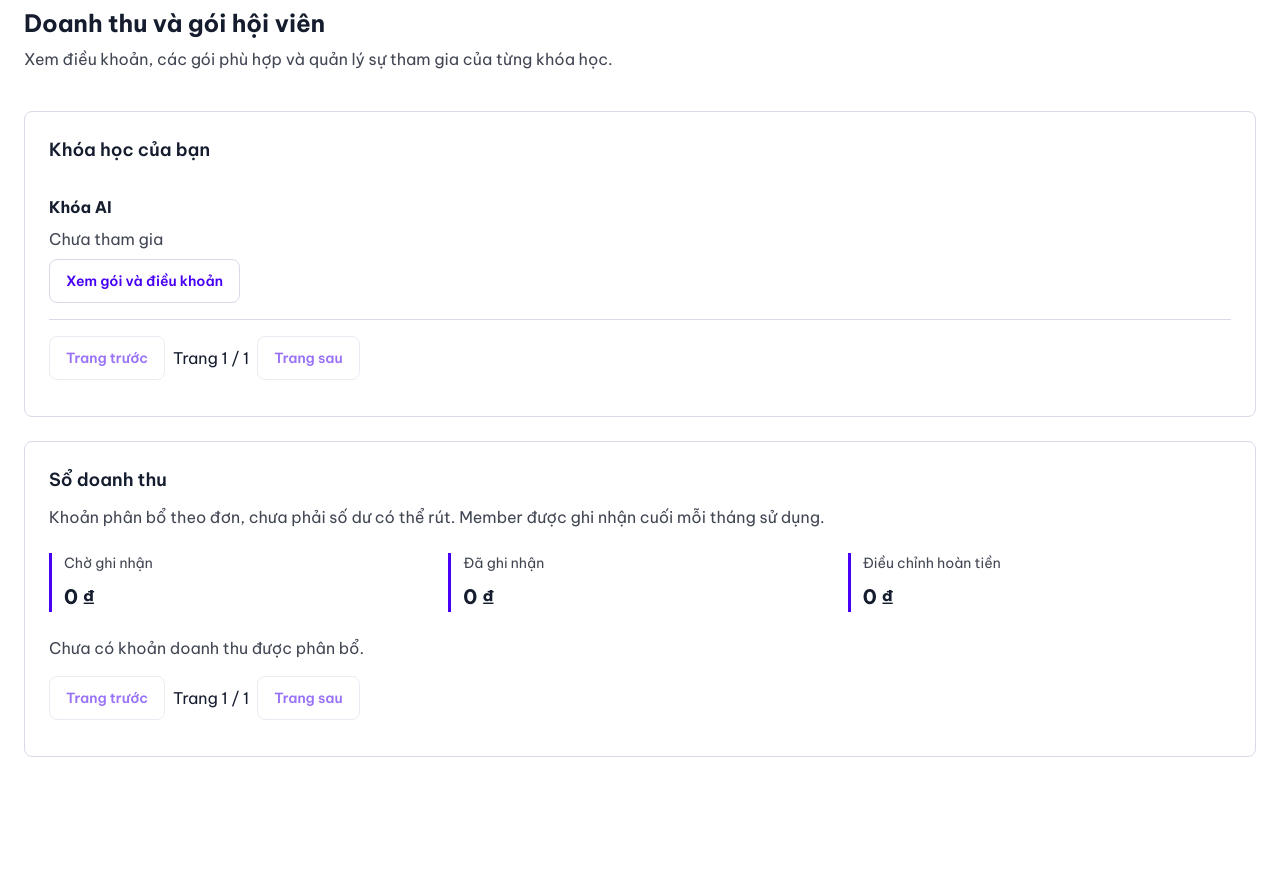
Test: revenue sharing forms › distinguishes included, merely matching and scheduled removal plans
The image size is (1280, 871).
Click the button "Xem gói và điều khoản" at x=144, y=281, box top-left (49, 259), bottom-right (240, 303)
(page scrolled)
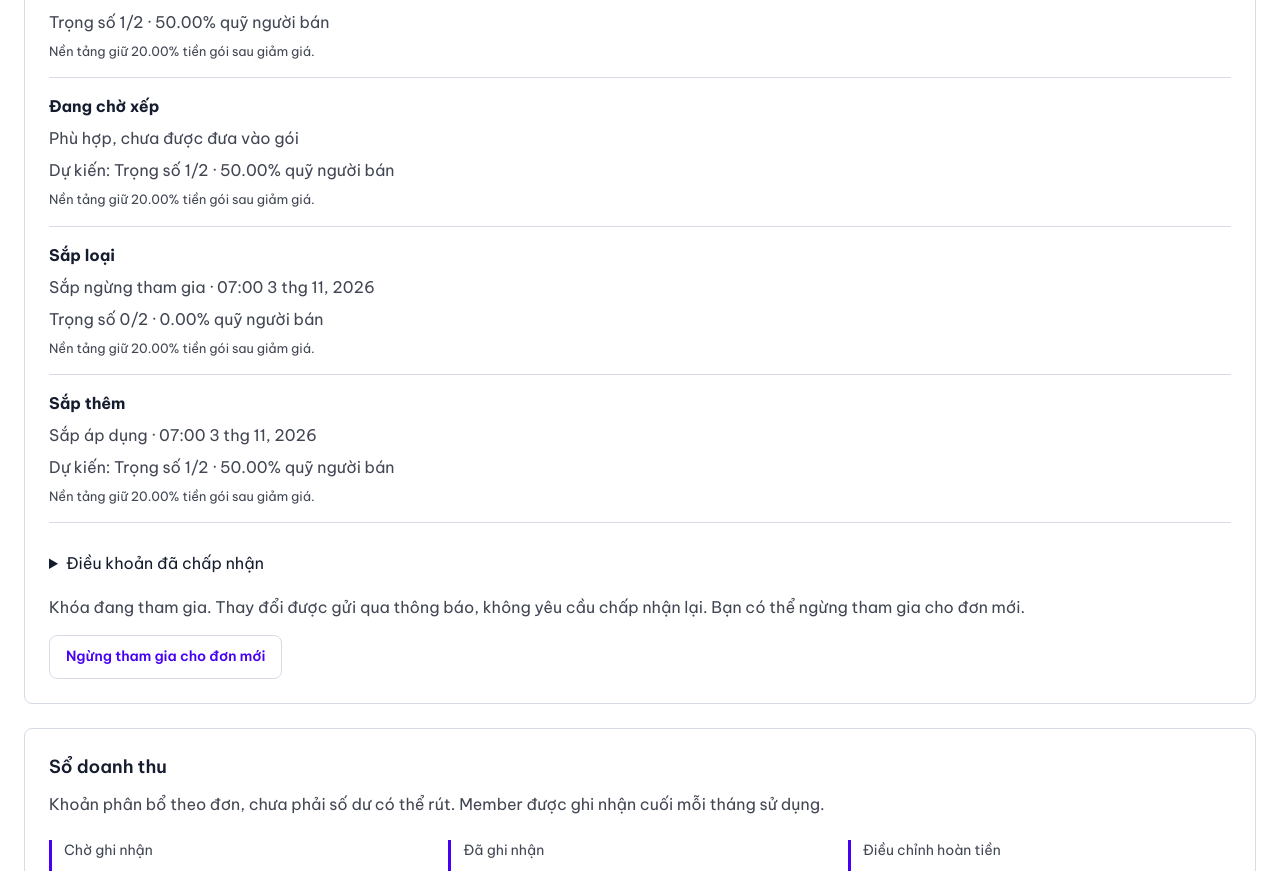
Check: the text "Phù hợp, chưa được đưa vào gói" is shown, box top-left (49, 128), bottom-right (299, 148)
Check: the text "Sắp ngừng tham gia · 07:00 3 thg 11, 2026" is shown, box top-left (49, 277), bottom-right (375, 297)
Check: the text "Sắp áp dụng · 07:00 3 thg 11, 2026" is shown, box top-left (49, 425), bottom-right (317, 445)
